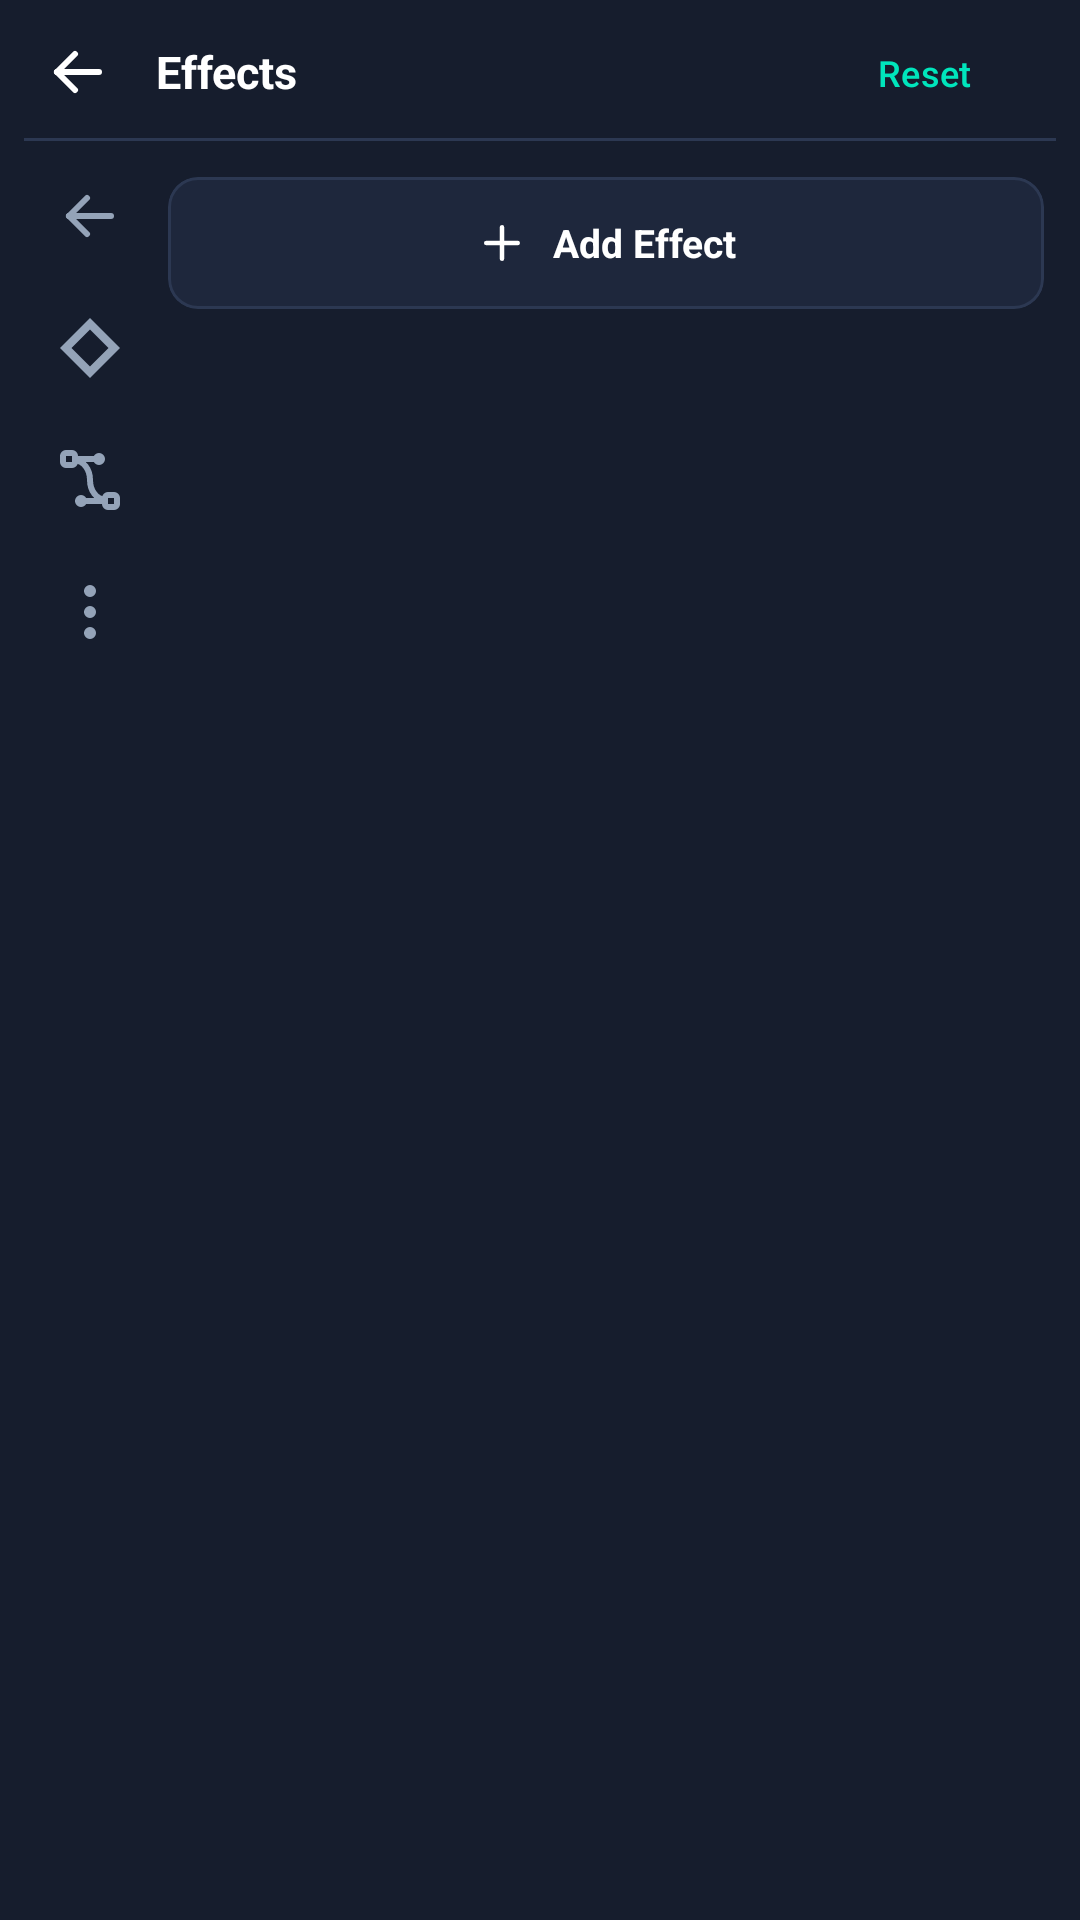

Icon click points for this 1080x1920 phone screenshot, format (x=x, y=y):
pe add: (x=502, y=243)
pe back: (x=77, y=72), (x=90, y=216)
pe curve: (x=90, y=480)
pe diamond: (x=90, y=348)
pe more: (x=90, y=612)
